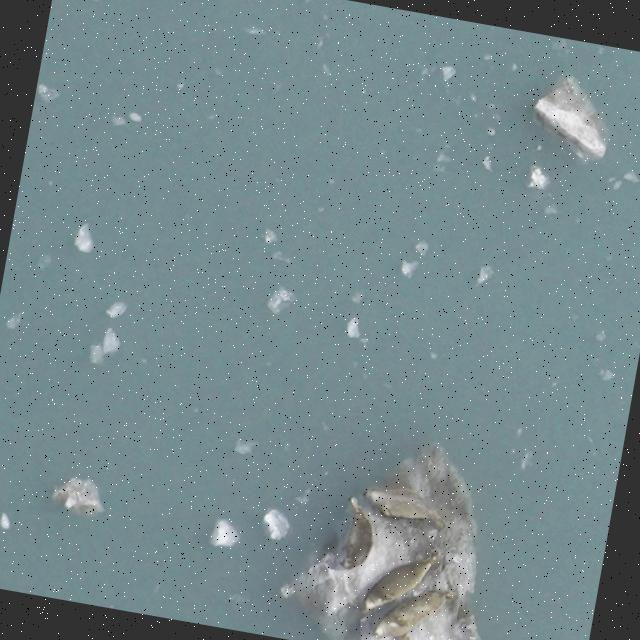seal: (358, 537, 444, 625), (364, 572, 462, 640), (354, 478, 455, 532), (330, 488, 381, 575)
